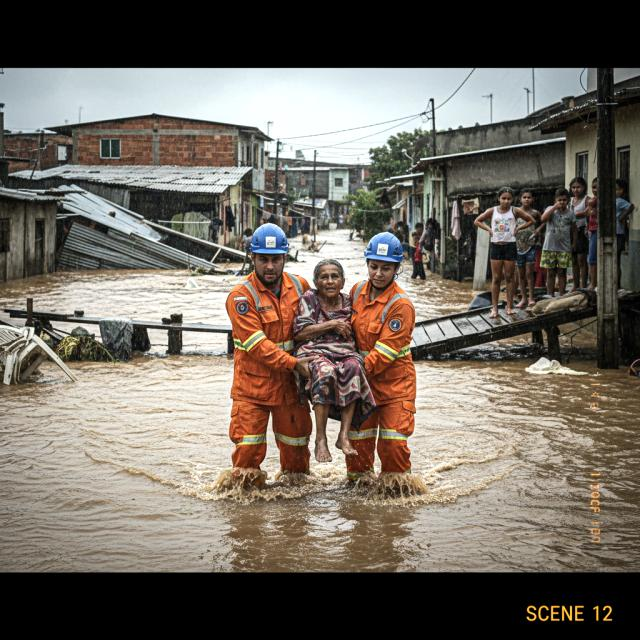civilian: (291, 255, 381, 467), (475, 187, 521, 318), (511, 186, 540, 314), (543, 188, 572, 295), (565, 176, 591, 294), (611, 179, 635, 295), (588, 178, 604, 296), (410, 222, 428, 282)
rescuer: (210, 220, 320, 492), (340, 227, 418, 485)
